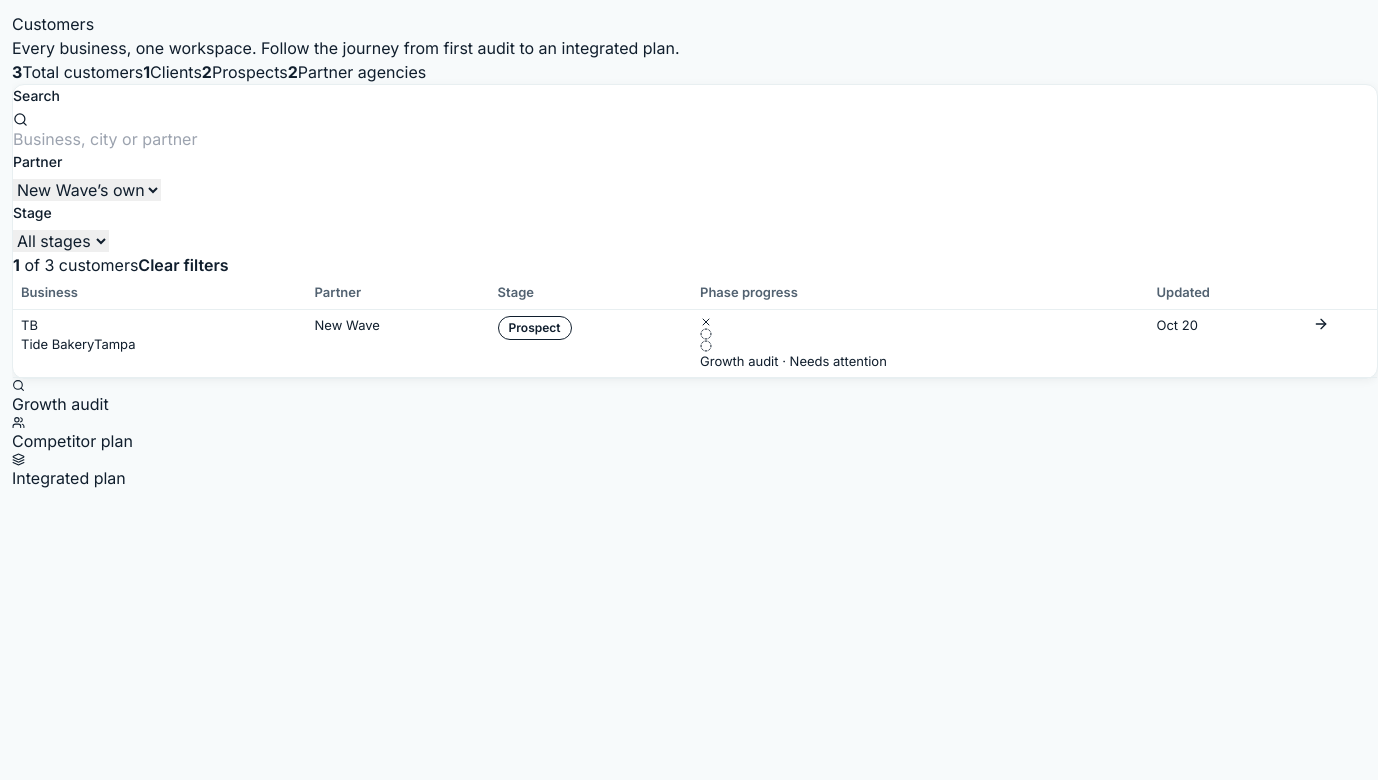
Test case: staff customers › lists every customer with its partner, stage and phases, filtered by search, partner and stage
Earlier steps of the test are not shown.
Step 1. Select "Tide Co" in the dropdown labelled "Partner" → (87, 190), box [13,179,161,201]
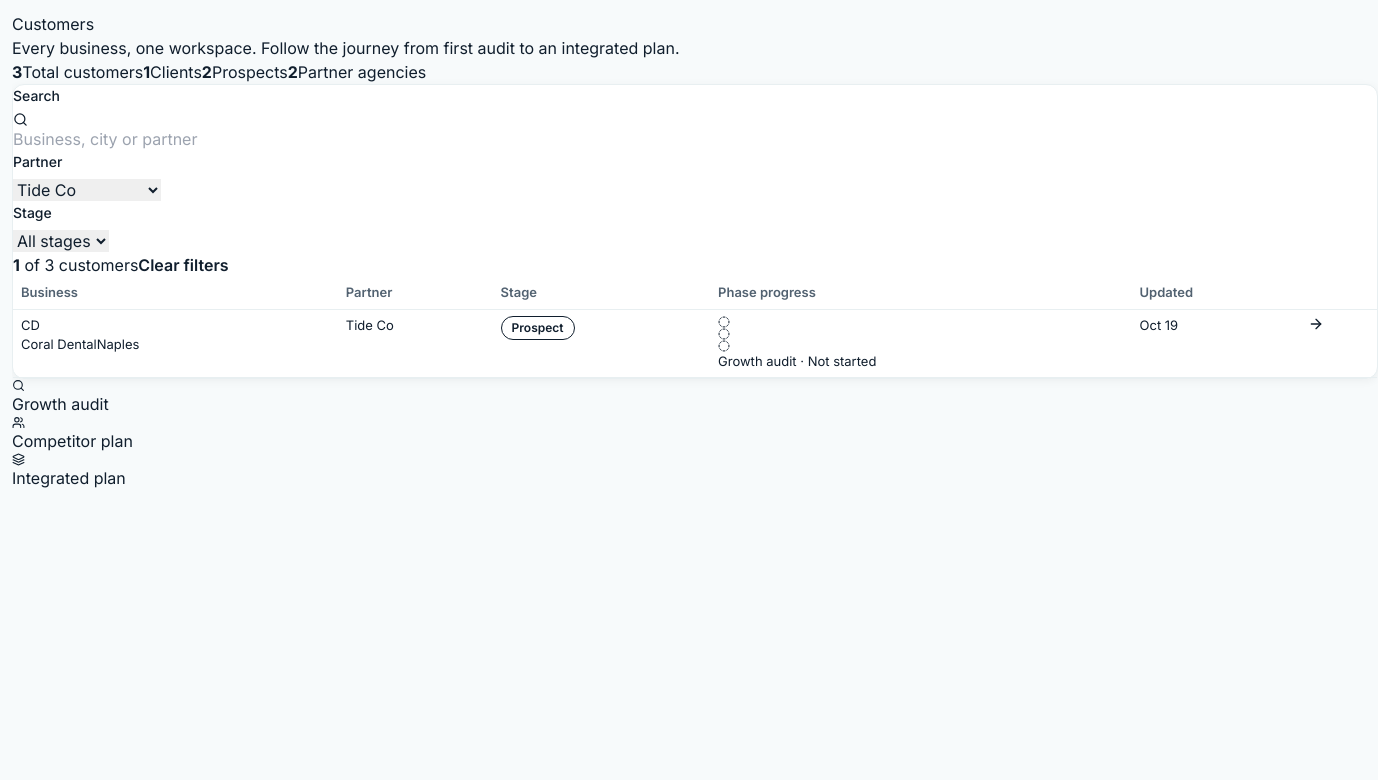
Step 2. Select "All partners" in the dropdown labelled "Partner" → (87, 190), box [13,179,161,201]
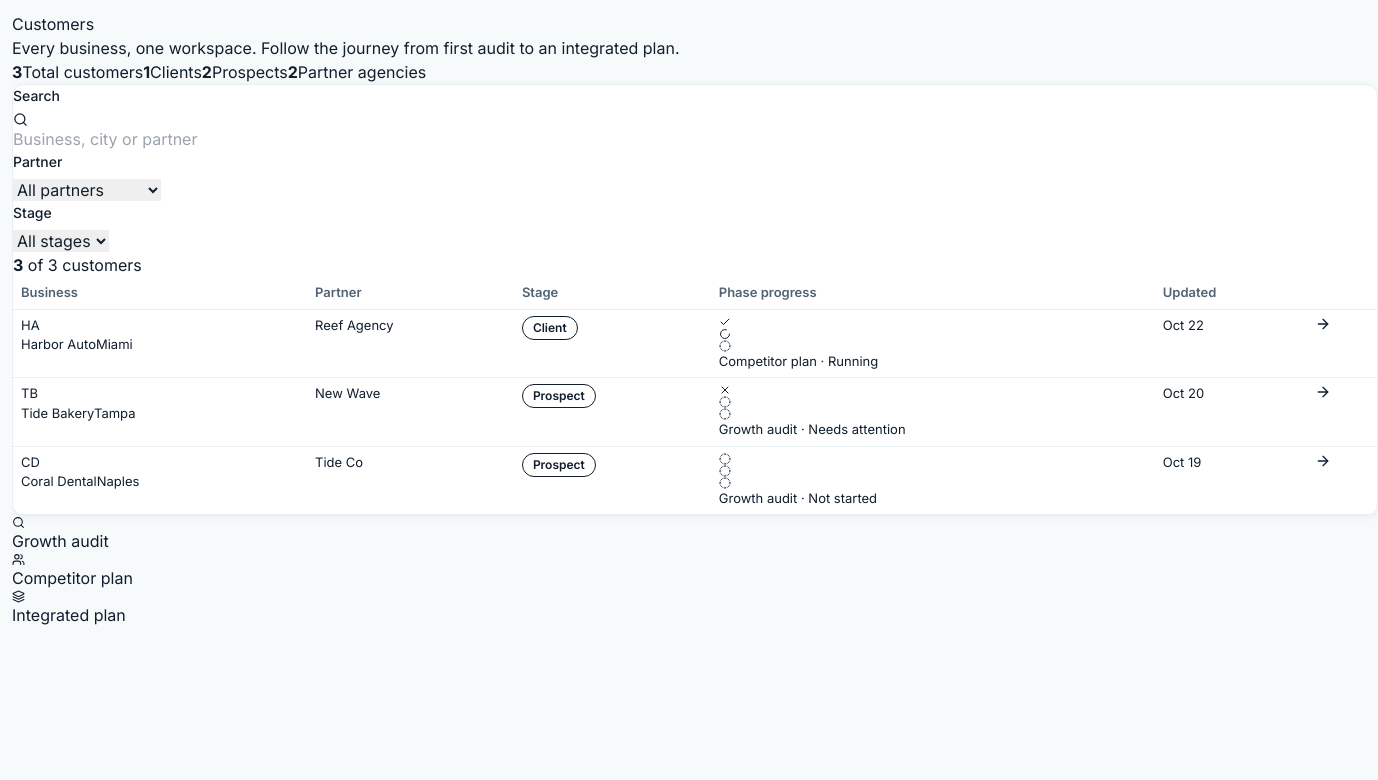
Step 3. Select "Clients" in the dropdown labelled "Stage" → (61, 241), box [13,230,109,252]
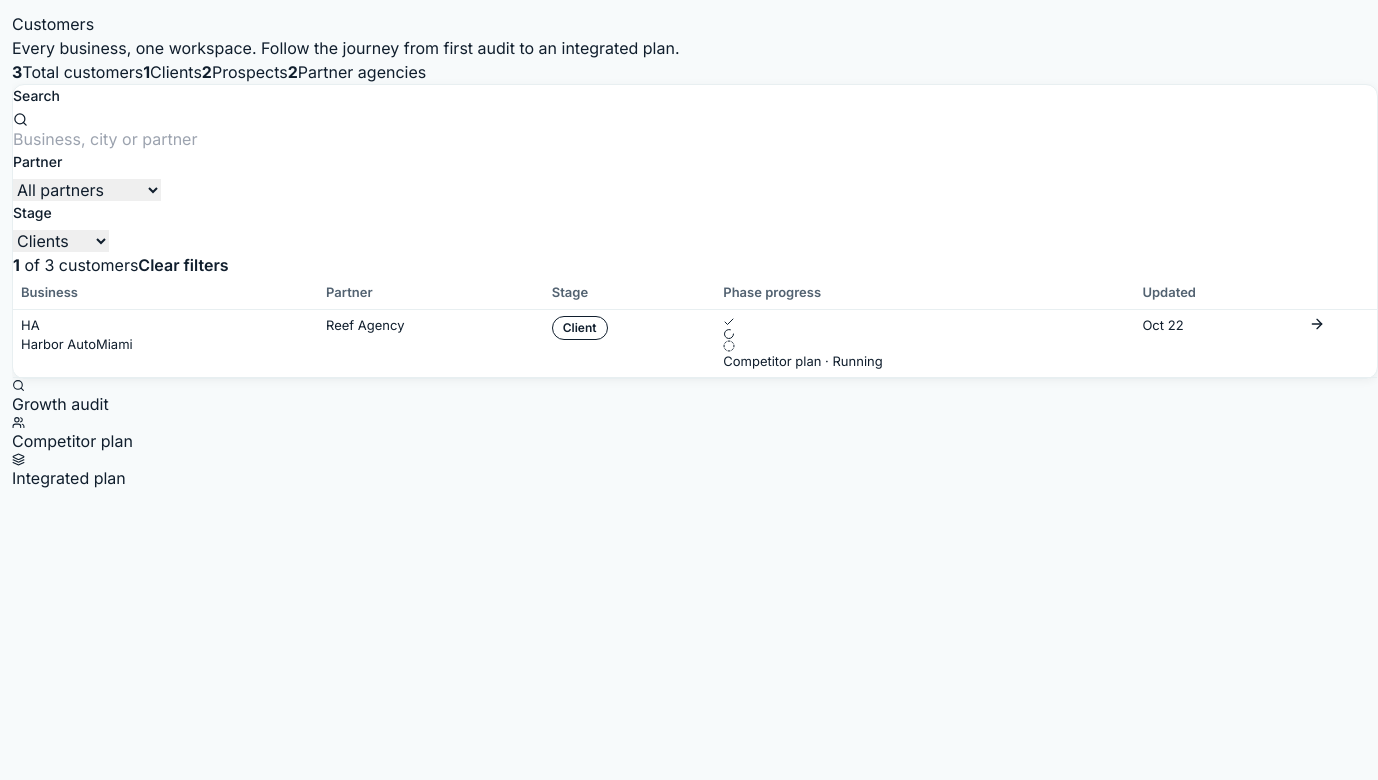
Step 4. Select "All stages" in the dropdown labelled "Stage" → (61, 241), box [13,230,109,252]
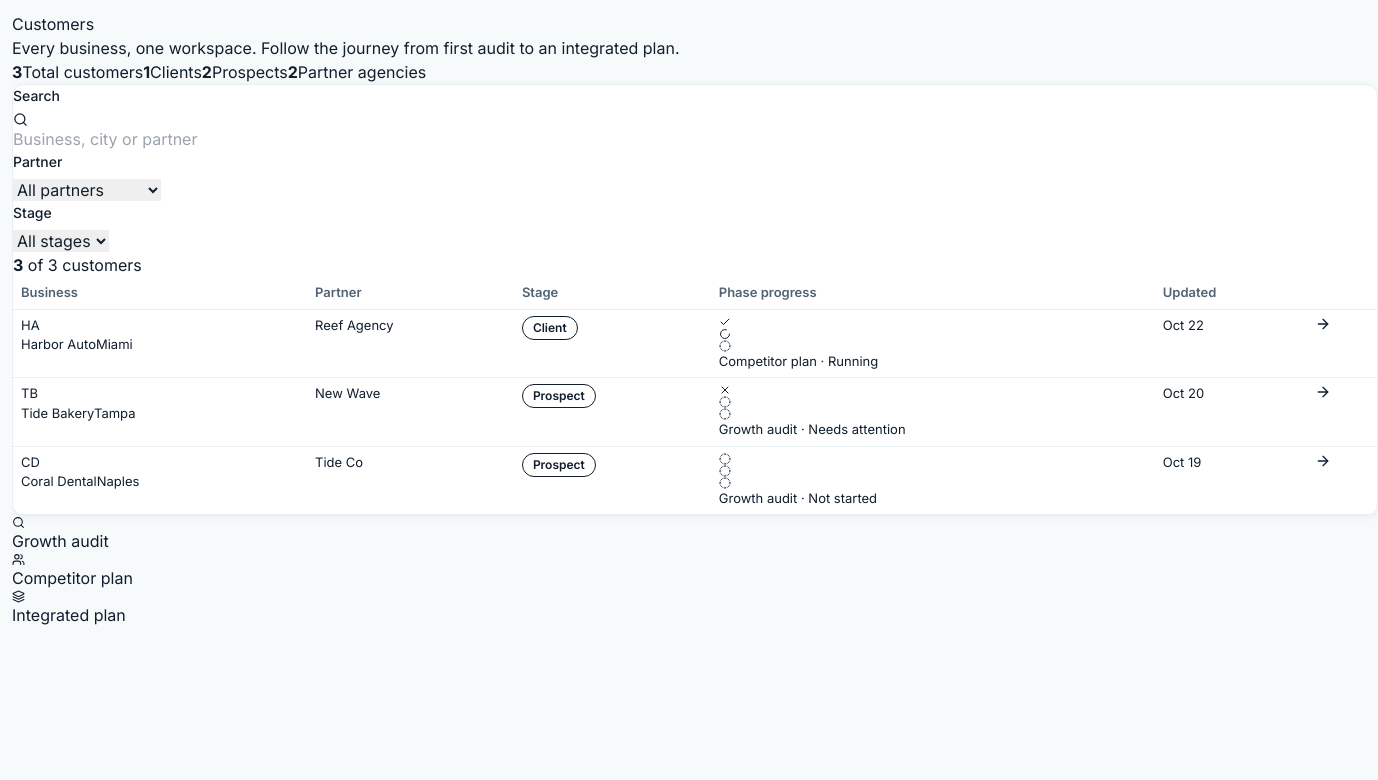
Step 5. Type "tide" into the search field labelled "Search" → (130, 139), box [13,127,247,151]
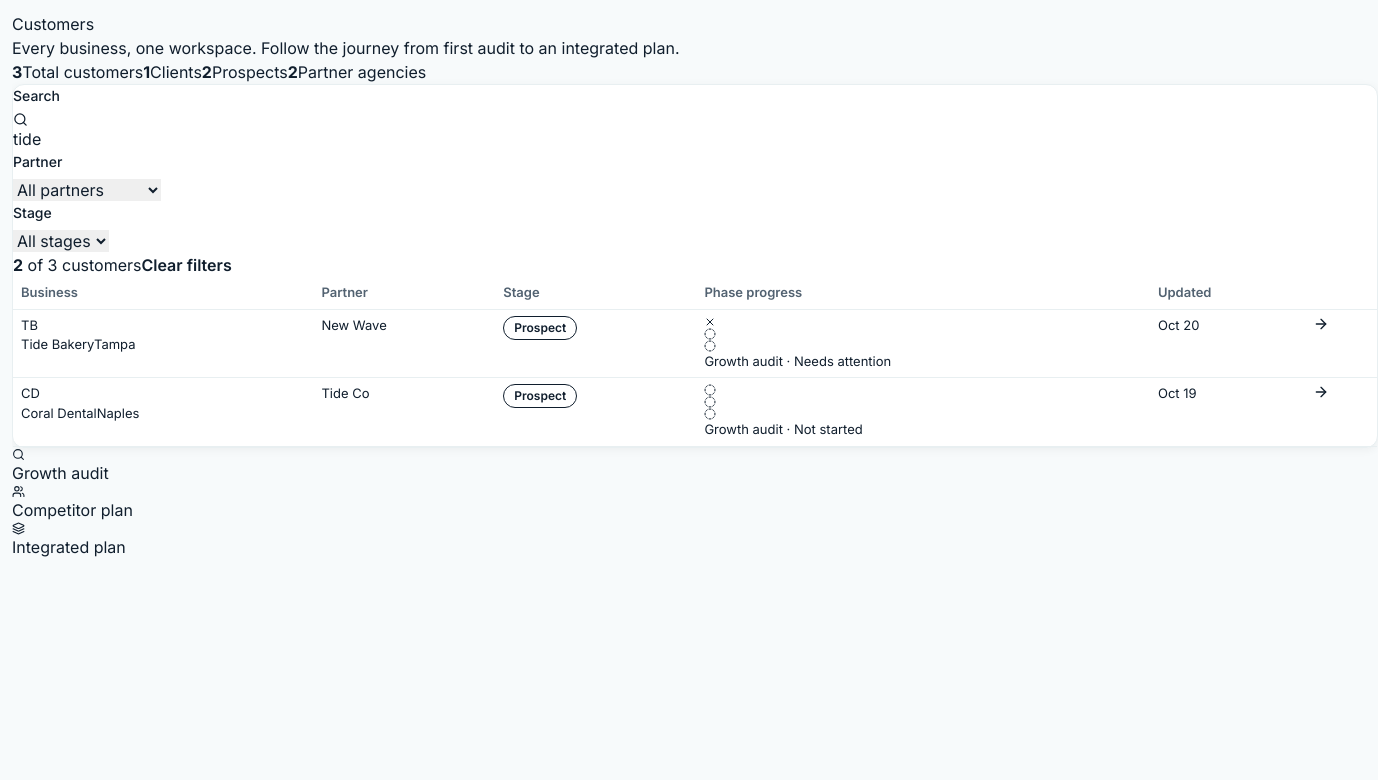
Step 6. Replace the text in the search field labelled "Search" with "nothing like it" → (130, 139), box [13,127,247,151]
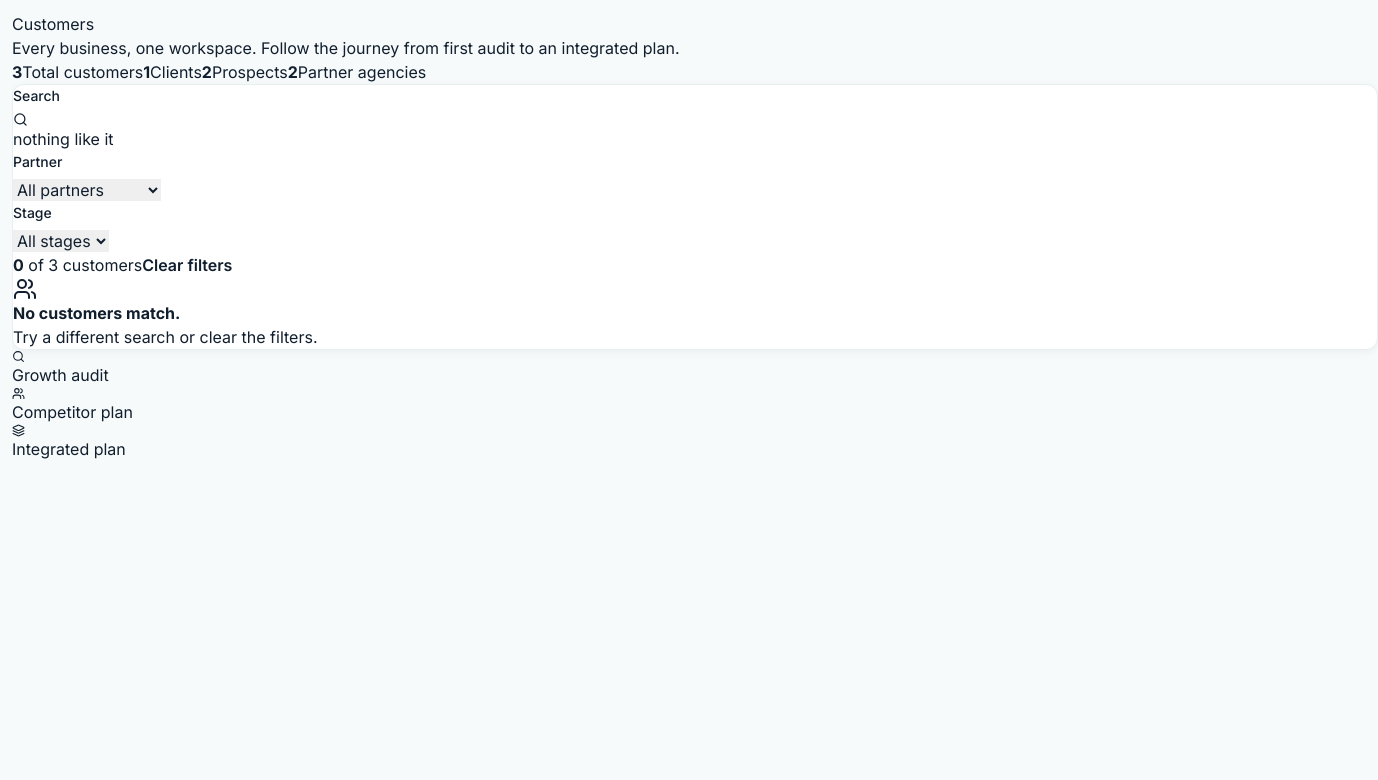
Check: the text "No customers match." is shown, box [13,303,180,323]
